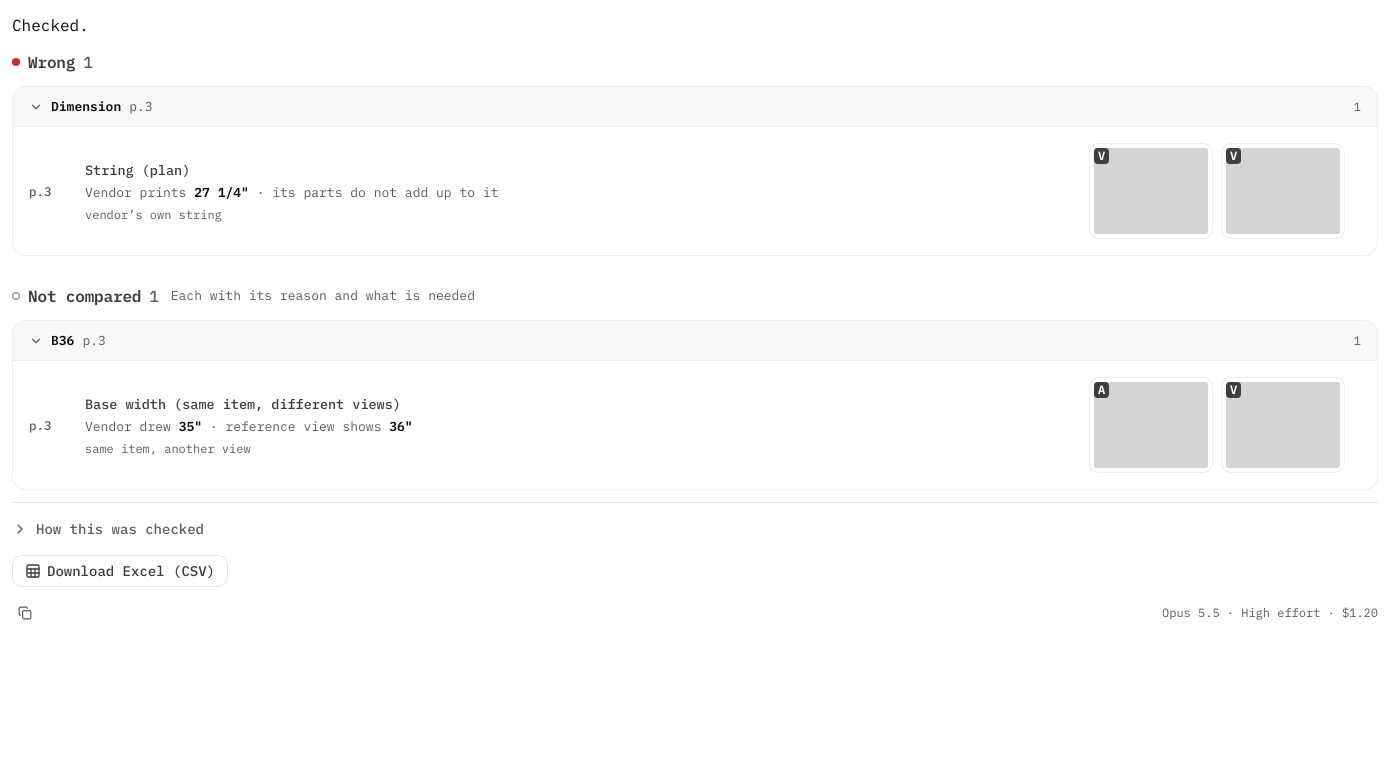
Scenario: the reading ledger on the screen › shows the ledger in “How this was checked”, the items it names behind a disclosure
Click the button "How this was checked": (120, 529) [12, 515, 1378, 543]
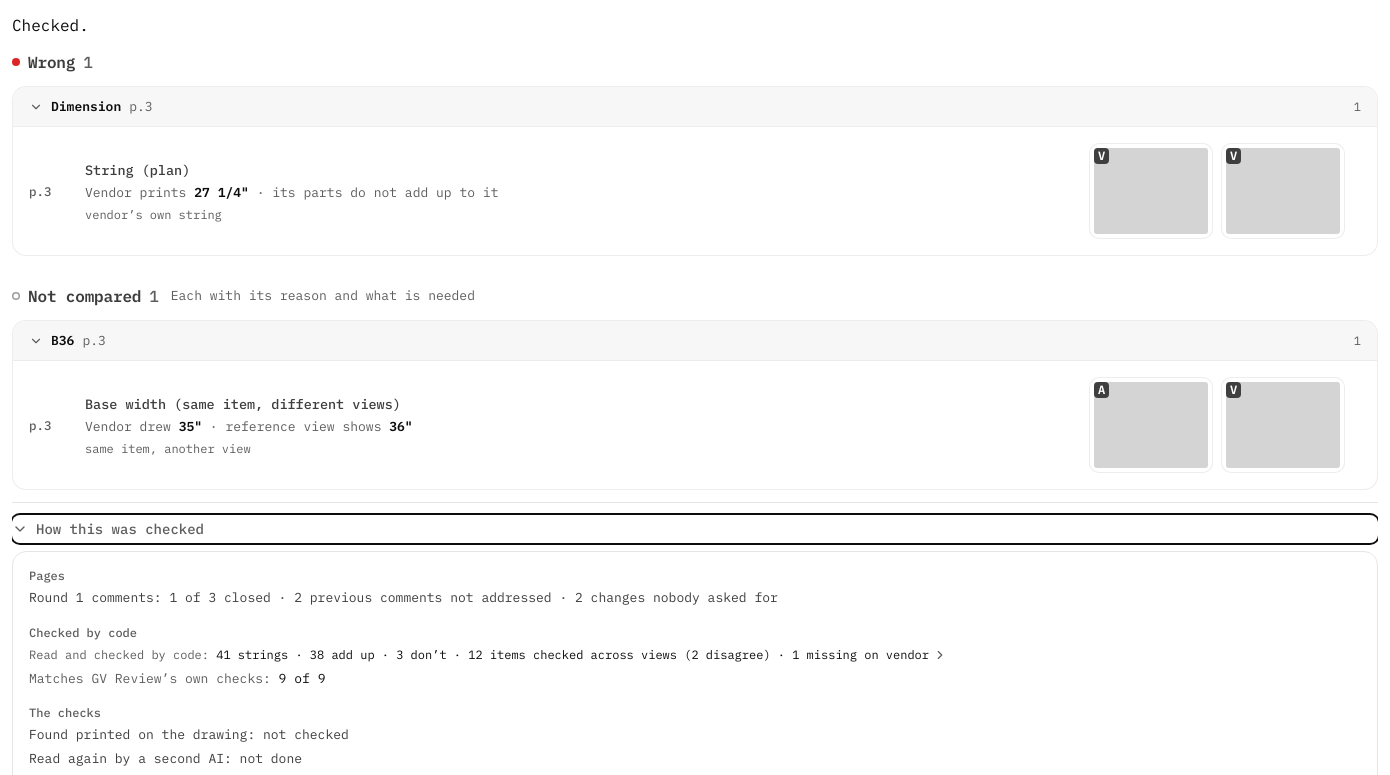
Result: the button "Read and checked by code: 41 strings · 38 add up · 3 don’t" shows "1 missing on vendor"
Click the button "Read and checked by code: 41 strings · 38 add up · 3 don’t": (488, 654) [29, 644, 947, 664]
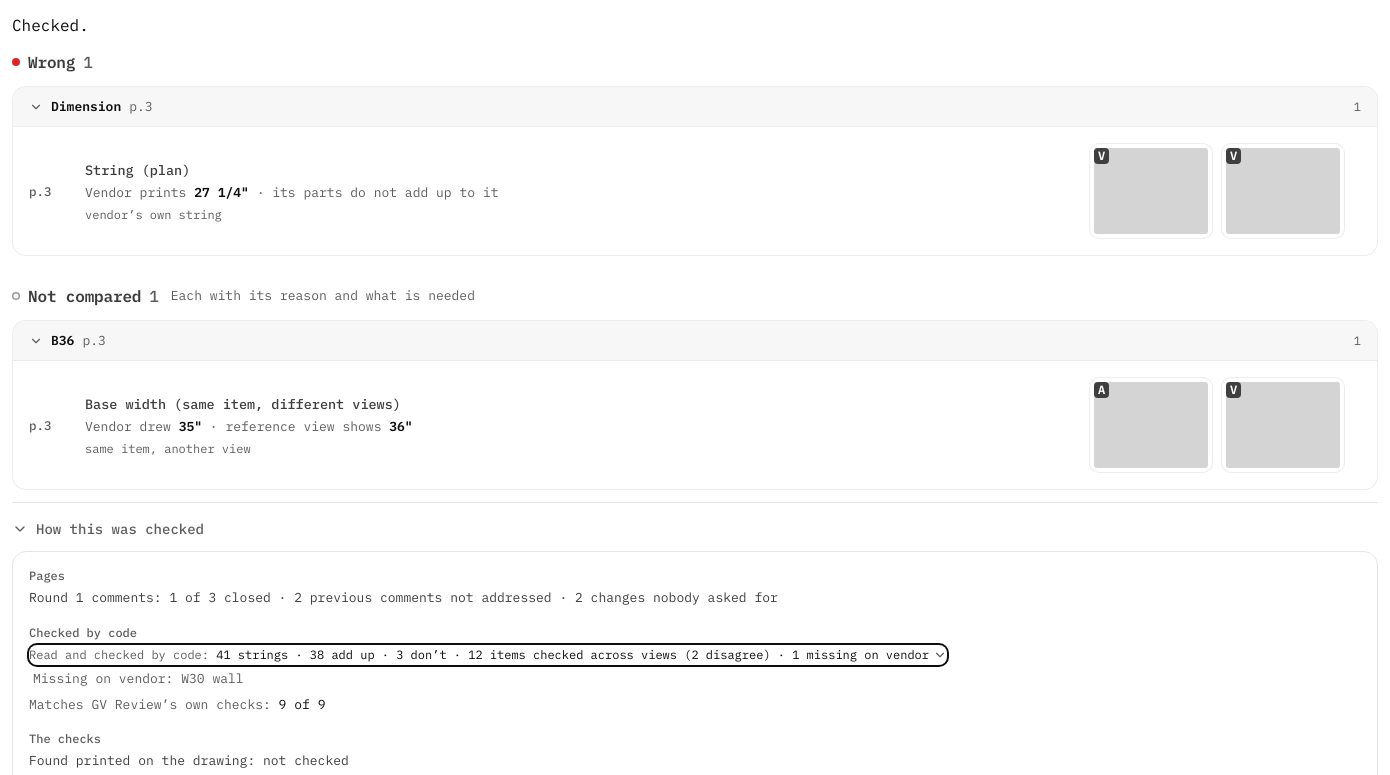
Result: the text "Matches GV Review’s own checks:" shows "9 of 9" at [29, 696, 325, 713]
Result: the text "Round 1 comments: 1 of 3 closed · 2 previous comments not addressed · 2 changes nobody asked for" is shown at [29, 589, 778, 606]
Result: the list item "W30 wall" is shown at [181, 670, 244, 687]
